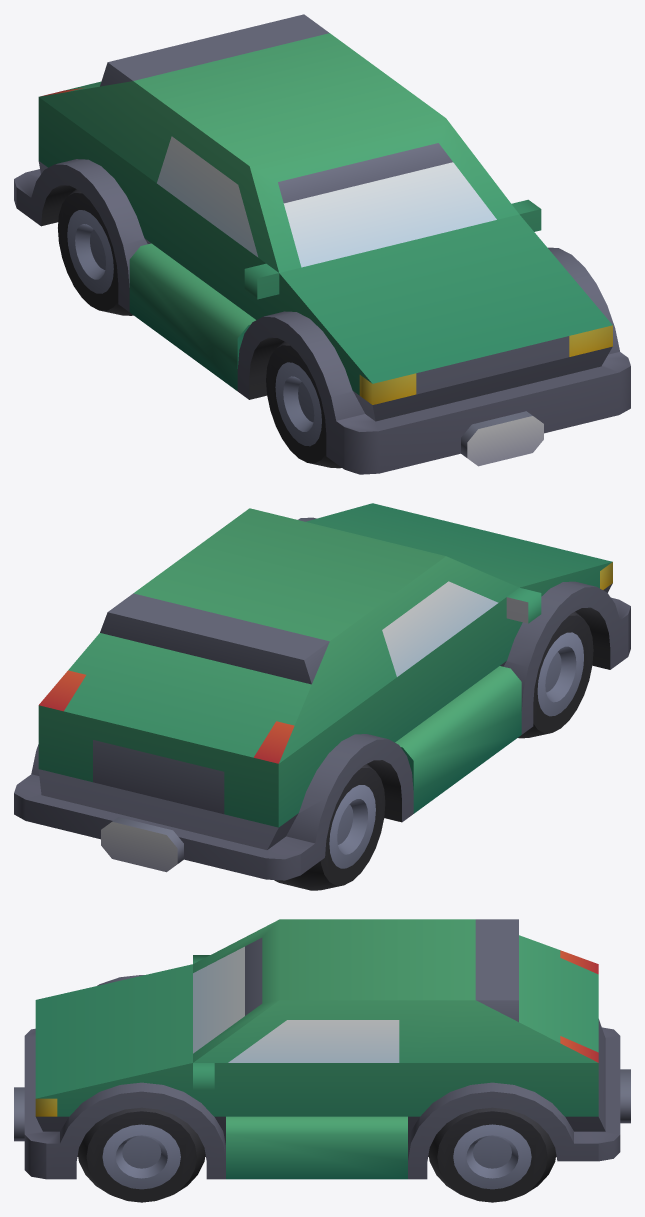
File: coupe.glb
3 views of the same model, one above another, from view 1: azimuth 30°, elevation 25°; view 2: azimuth 150°, elevation 25°; view 3: azimuth 270°, elevation 25° (orthographic). The views are drawn at different scales.
Parts seen in each view (by area): view 1: coupe; view 2: coupe; view 3: coupe.
Boxes of the visible parts, x1=… form: coupe: x1=14, y1=14, x2=630, y2=474; coupe: x1=14, y1=503, x2=630, y2=890; coupe: x1=14, y1=919, x2=630, y2=1202.
Size of the model in its own units: 1.88 by 1.48 by 4.2.
